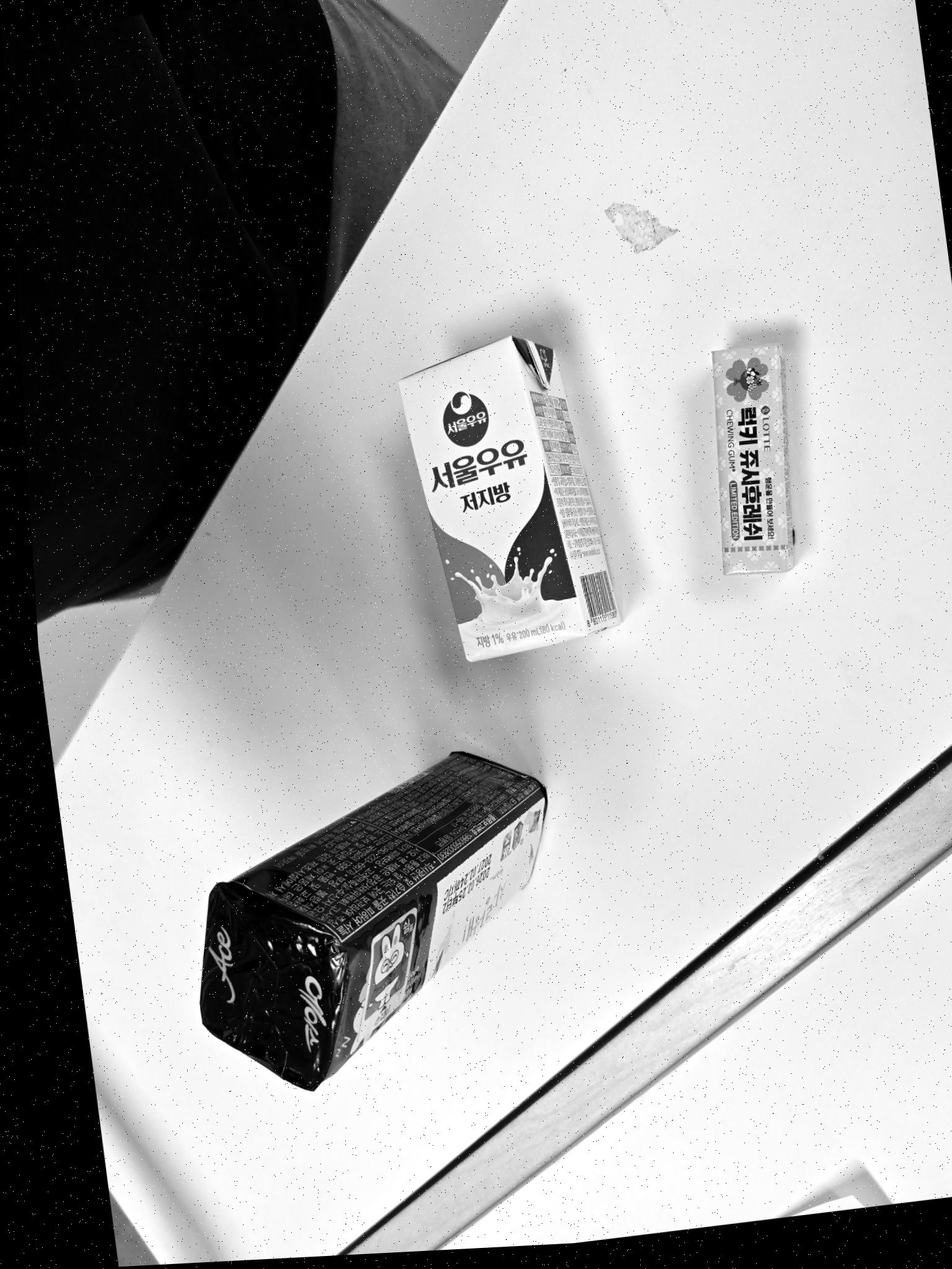cracker_ace: (200, 752, 547, 1091)
gum_yellow: (712, 343, 793, 574)
milk_blue: (399, 336, 620, 661)
